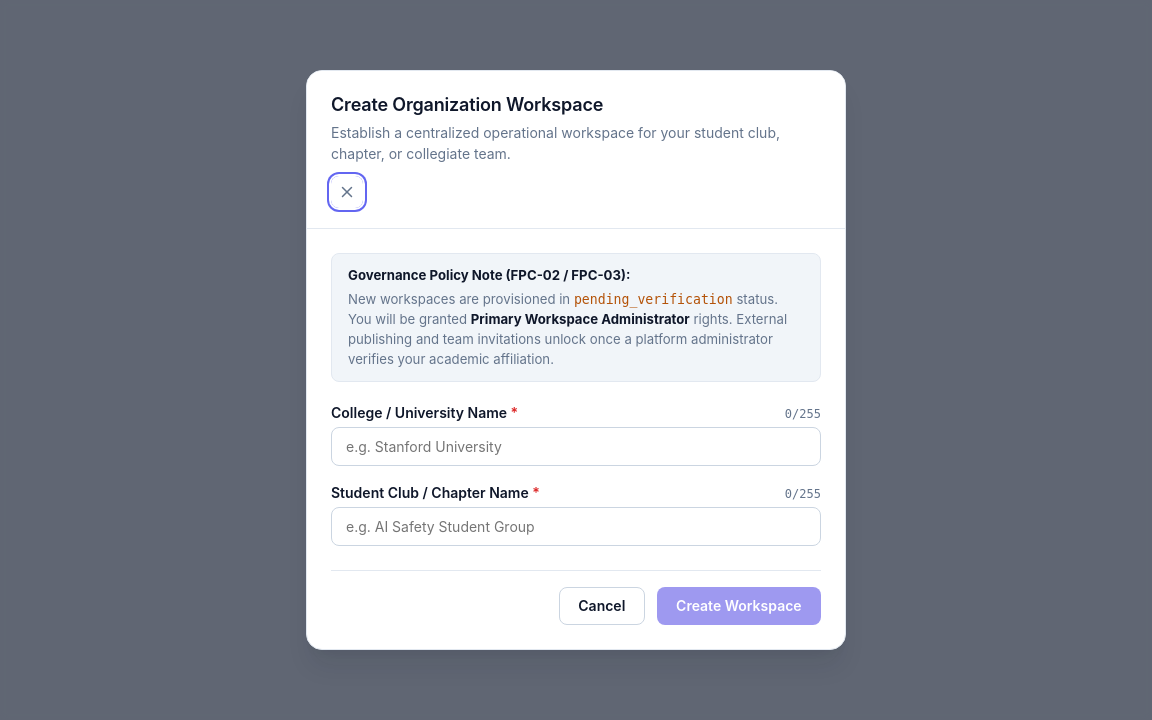
Phase 1: Workspace, Organization & Team Management › CreateOrgModal Component › displays server validation error on failure
Type "Harvard" into the field labelled "College / University Name".
click(576, 447); type("Harvard")  # box [331,427,821,466]
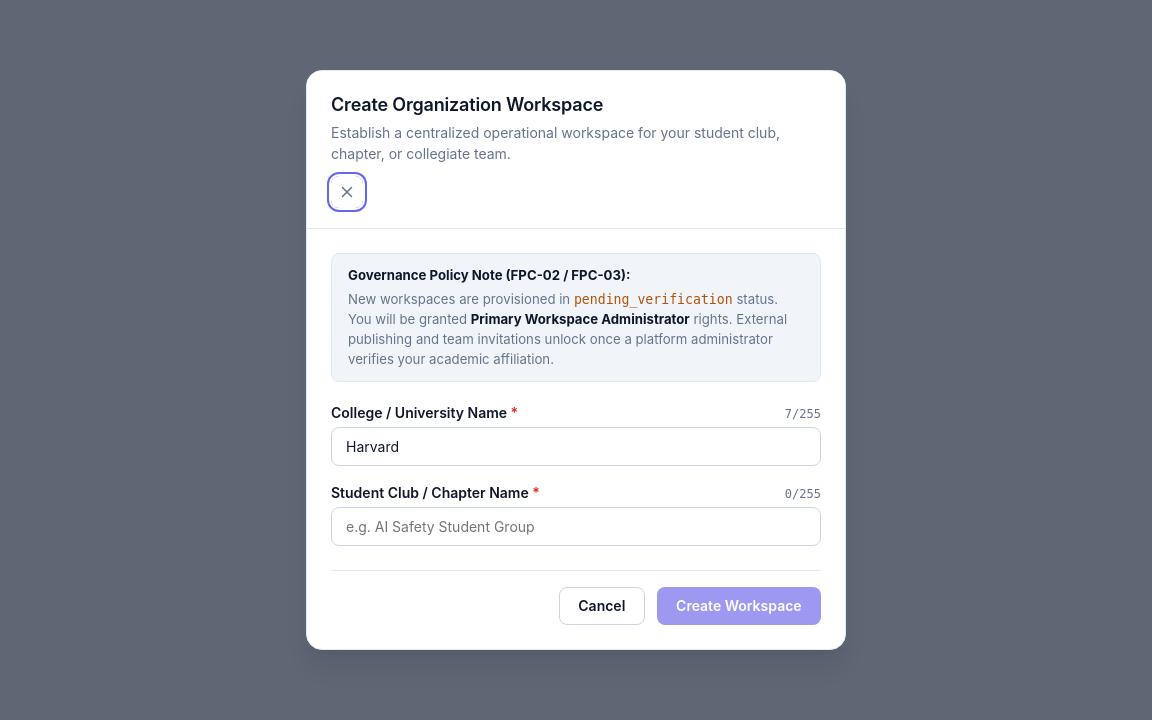
Type "Debate Council" into the field labelled "Student Club / Chapter Name".
click(576, 527); type("Debate Council")  # box [331,507,821,546]
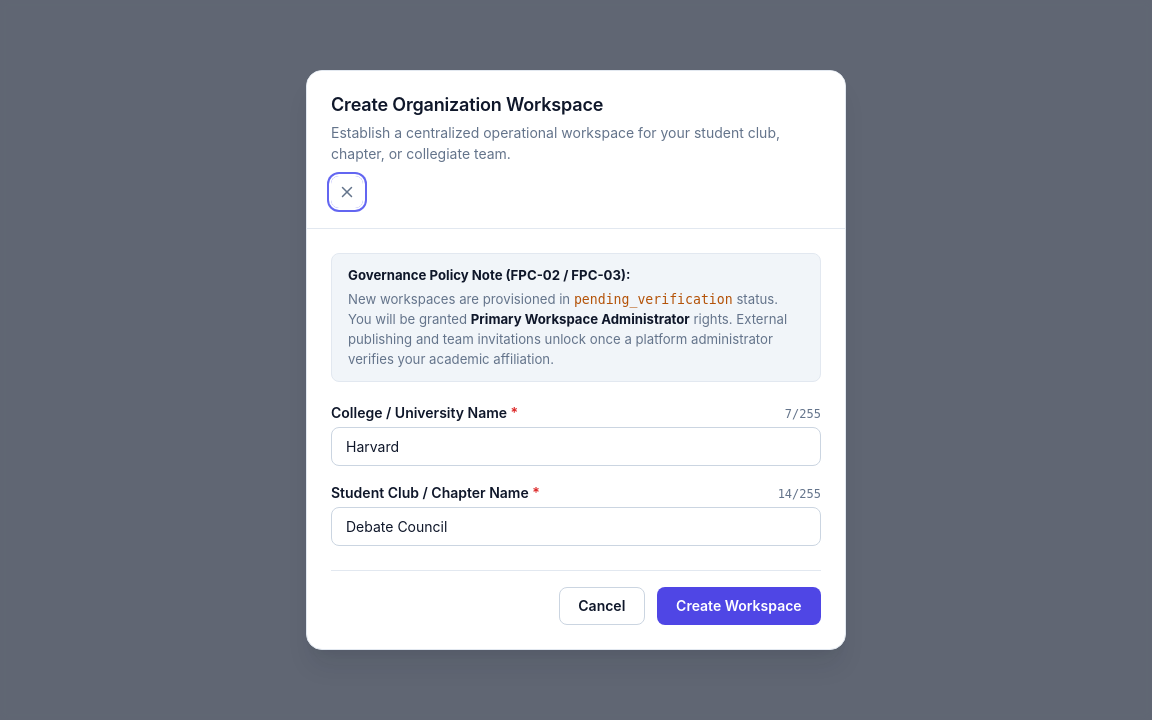
Click the button "Create Workspace".
click(739, 606)  # box [657,587,821,624]
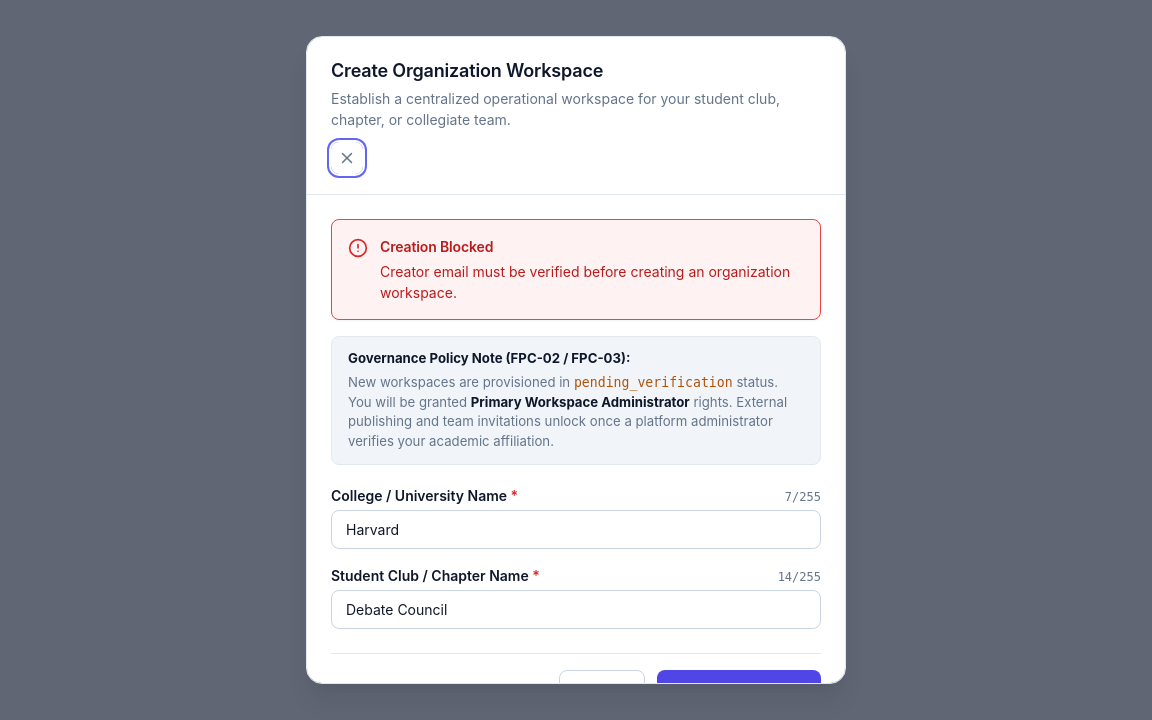
Result: the text "Creator email must be verified before creating an organization workspace" is shown at [380,263,790,301]
